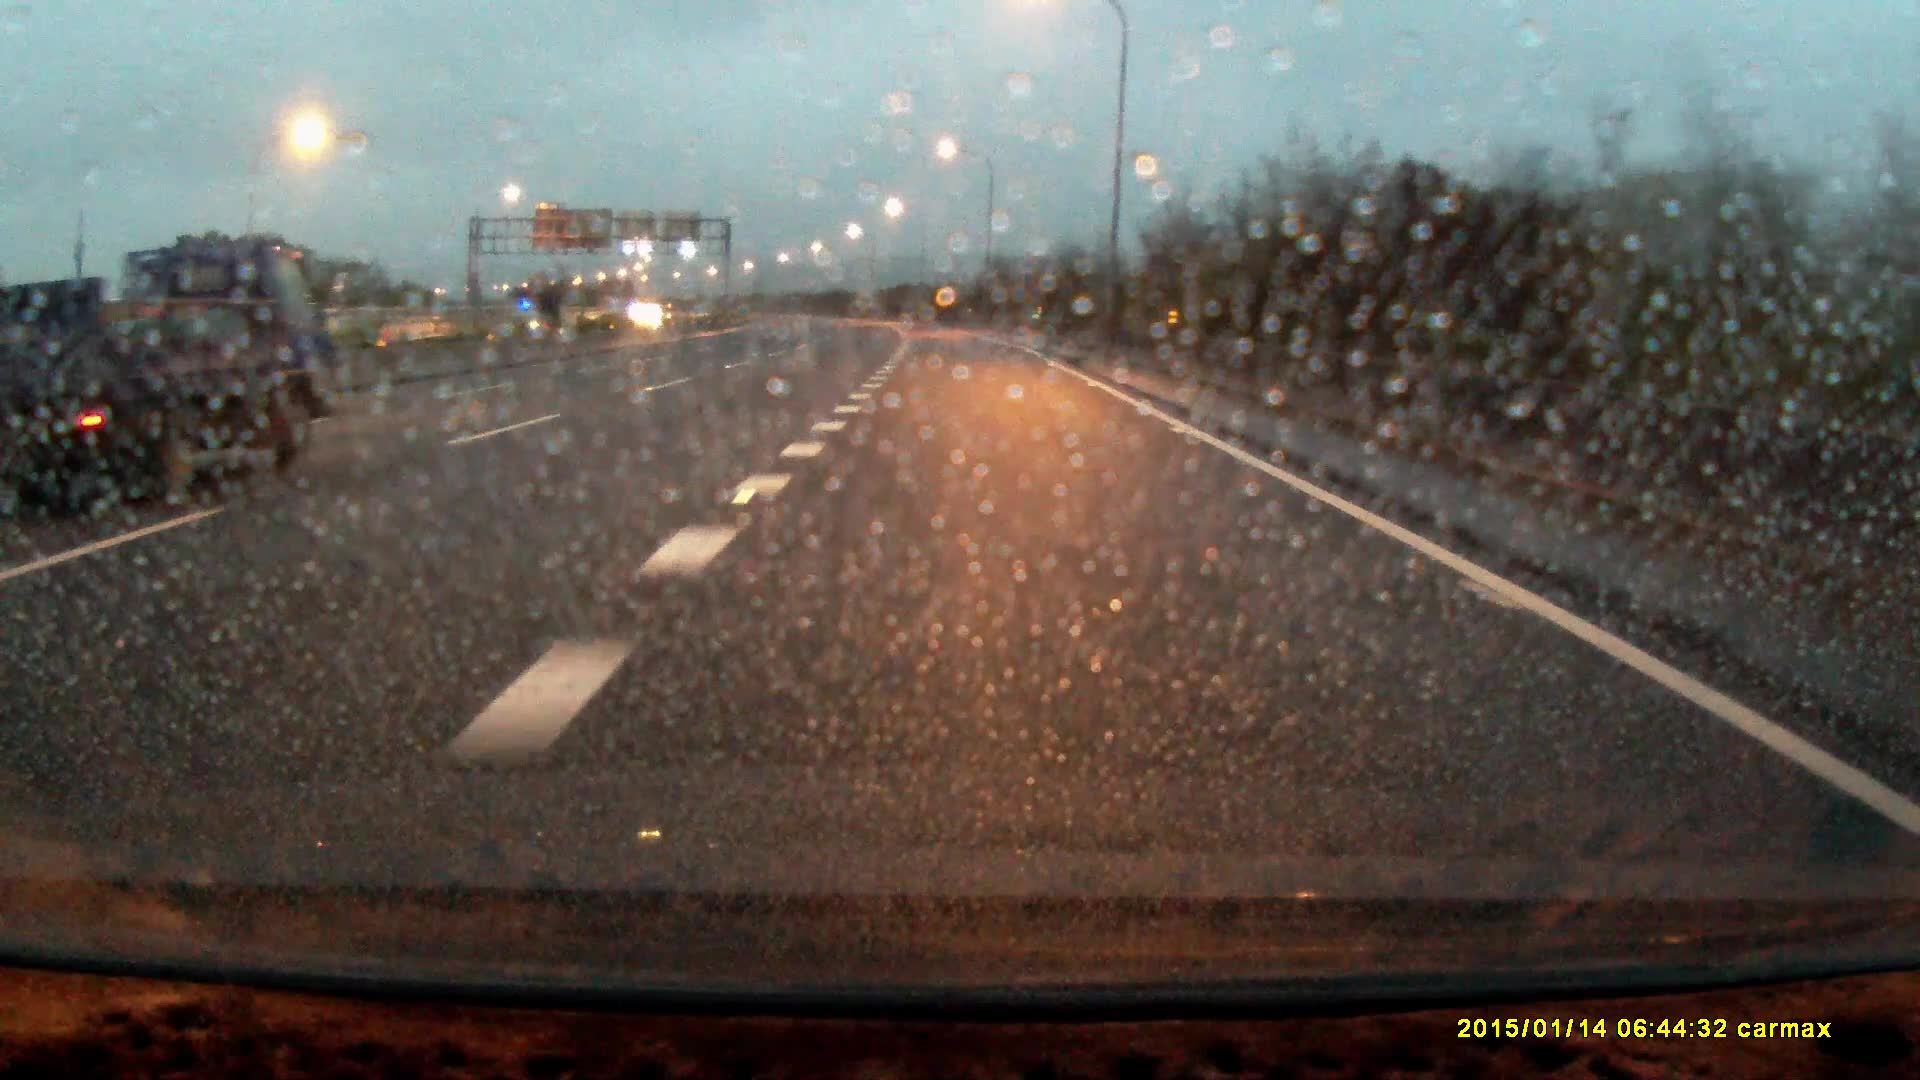vehicle: (1, 225, 371, 512)
